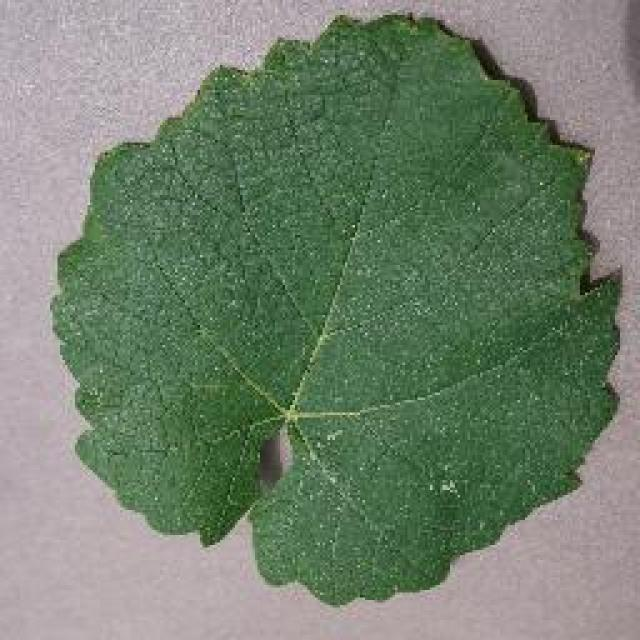Grape___healthy: (52, 15, 618, 602)
